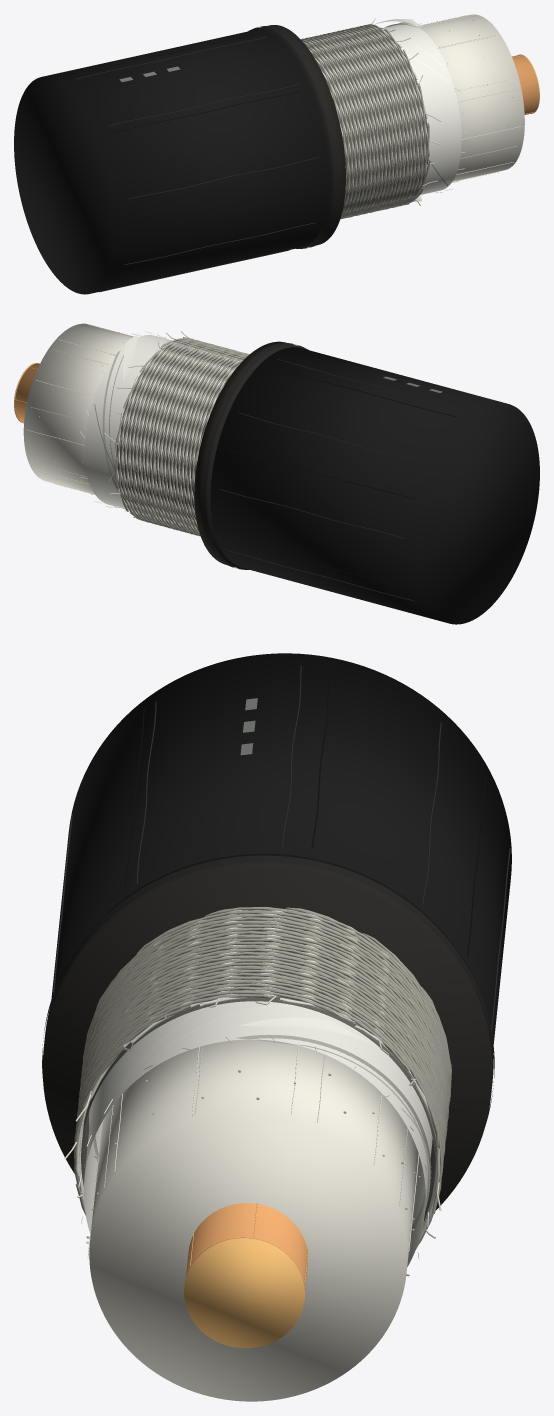
The model's file is rf-ecoflex10-macro.glb.
The picture shows the model from 3 angles, top to bottom: view 1: azimuth 30°, elevation 25°; view 2: azimuth 150°, elevation 25°; view 3: azimuth 270°, elevation 25°; orthographic projection. The views are drawn at different scales.
Visible parts, largest first — view 1: macro jacket body, macro dielectric exposed core, shadow seen through braid windows, continuous foil sleeve under braid, thick jacket cut wall, rounded jacket cut lip, polished solid center conductor, macro braid shadow carrier 06 strand 1, macro braid shadow carrier 04 strand 1, macro braid shadow carrier 05 strand 1, macro braid shadow carrier 03 strand 1, macro braid shadow carrier 02 strand 1 (+13 smaller); view 2: macro jacket body, macro dielectric exposed core, shadow seen through braid windows, continuous foil sleeve under braid, thick jacket cut wall, rounded jacket cut lip, macro braid shadow carrier 14 strand 1, macro braid shadow carrier 02 strand 1, macro braid shadow carrier 01 strand 1, macro braid shadow carrier 13 strand 1, polished solid center conductor, macro braid shadow carrier 12 strand 1 (+14 smaller); view 3: macro jacket body, macro dielectric exposed core, thick jacket cut wall, continuous foil sleeve under braid, polished conductor cut face glow, polished solid center conductor, rounded jacket cut lip, macro braid shadow carrier 02 strand 3, macro braid shadow carrier 03 strand 3, macro braid shadow carrier 01 strand 3, macro braid shadow carrier 13 strand 3, macro braid shadow carrier 12 strand 3 (+12 smaller).
Part boxes in pixels (bbox=[...]): macro jacket body: bbox=[14, 29, 329, 294]; macro dielectric exposed core: bbox=[418, 14, 524, 181]; shadow seen through braid windows: bbox=[308, 30, 428, 209]; continuous foil sleeve under braid: bbox=[383, 23, 461, 194]; thick jacket cut wall: bbox=[248, 25, 345, 248]; rounded jacket cut lip: bbox=[253, 26, 338, 248]; polished solid center conductor: bbox=[512, 55, 538, 114]; macro braid shadow carrier 06 strand 1: bbox=[319, 29, 417, 217]; macro braid shadow carrier 04 strand 1: bbox=[313, 25, 410, 210]; macro braid shadow carrier 05 strand 1: bbox=[315, 24, 414, 214]; macro braid shadow carrier 03 strand 1: bbox=[308, 26, 406, 211]; macro braid shadow carrier 02 strand 1: bbox=[305, 26, 403, 210]; macro jacket body: bbox=[210, 347, 539, 624]; macro dielectric exposed core: bbox=[23, 323, 132, 494]; shadow seen through braid windows: bbox=[116, 345, 239, 526]; continuous foil sleeve under braid: bbox=[84, 335, 171, 509]; thick jacket cut wall: bbox=[194, 341, 308, 569]; rounded jacket cut lip: bbox=[201, 343, 303, 569]; macro braid shadow carrier 14 strand 1: bbox=[123, 344, 243, 534]; macro braid shadow carrier 02 strand 1: bbox=[115, 342, 248, 531]; macro braid shadow carrier 01 strand 1: bbox=[120, 343, 246, 533]; macro braid shadow carrier 13 strand 1: bbox=[126, 345, 239, 533]; polished solid center conductor: bbox=[15, 363, 39, 422]; macro braid shadow carrier 12 strand 1: bbox=[130, 346, 233, 535]; macro jacket body: bbox=[51, 653, 511, 1043]; macro dielectric exposed core: bbox=[89, 1039, 418, 1401]; thick jacket cut wall: bbox=[42, 853, 493, 1210]; continuous foil sleeve under braid: bbox=[83, 1001, 432, 1266]; polished conductor cut face glow: bbox=[184, 1237, 304, 1348]; polished solid center conductor: bbox=[186, 1203, 307, 1289]; rounded jacket cut lip: bbox=[42, 855, 494, 1122]; macro braid shadow carrier 02 strand 3: bbox=[80, 931, 446, 1207]; macro braid shadow carrier 03 strand 3: bbox=[77, 936, 447, 1133]; macro braid shadow carrier 01 strand 3: bbox=[83, 927, 447, 1248]; macro braid shadow carrier 13 strand 3: bbox=[79, 921, 448, 1150]; macro braid shadow carrier 12 strand 3: bbox=[83, 917, 447, 1160].
Size of the model in its own units: 6.5 by 2.8 by 2.91.
